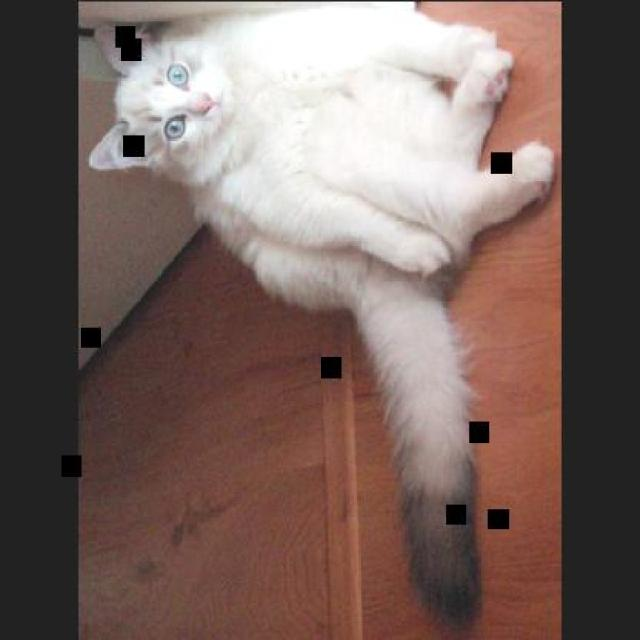unauthorized: (84, 5, 554, 626)
